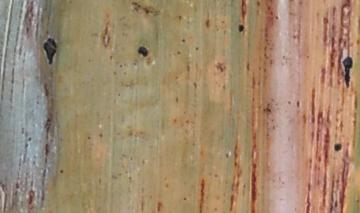tarspot: (40, 33, 61, 67), (340, 51, 355, 92), (135, 43, 151, 59), (235, 20, 248, 35), (332, 139, 344, 155)
